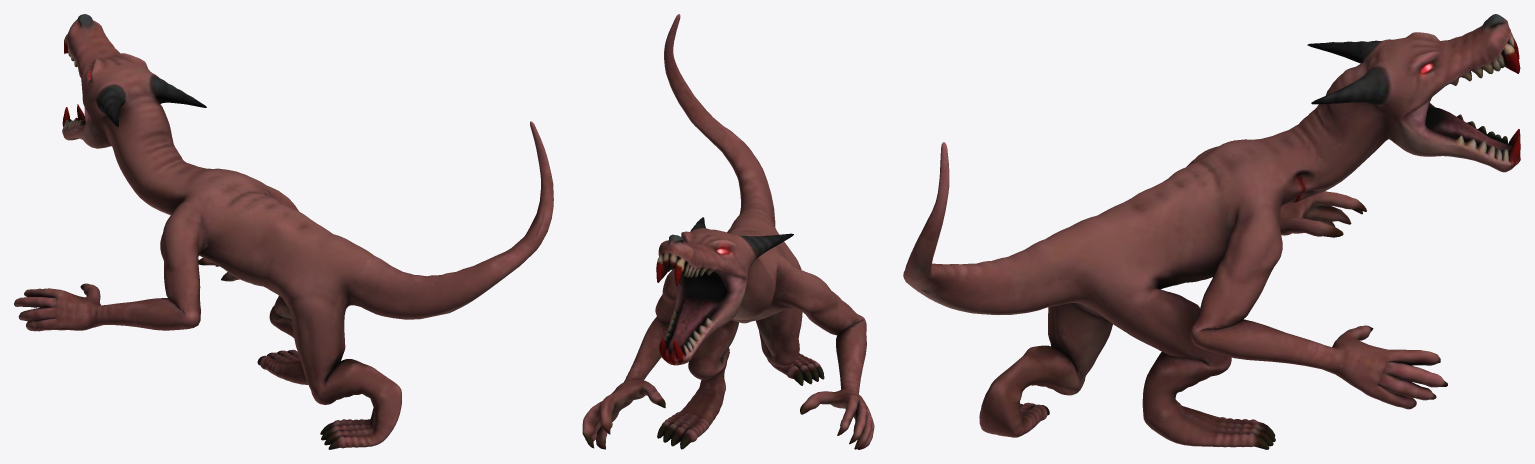
The model's file is MZ4250 - Kobold Vampire Spawn_2.glb.
3 views of the same model, side by side, from view 1: azimuth 30°, elevation 25°; view 2: azimuth 150°, elevation 25°; view 3: azimuth 270°, elevation 25° (orthographic). The views are drawn at different scales.
Parts seen in each view (by area): view 1: Body.002; view 2: Body.002; view 3: Body.002.
Boxes of the visible parts, x1,y1,x2,y2 form: Body.002: [14, 14, 553, 449]; Body.002: [582, 14, 874, 449]; Body.002: [903, 14, 1520, 449].
Bounding box in the file's own units: 54.52 × 43.75 × 64.82.
1 material, 1 textured.
